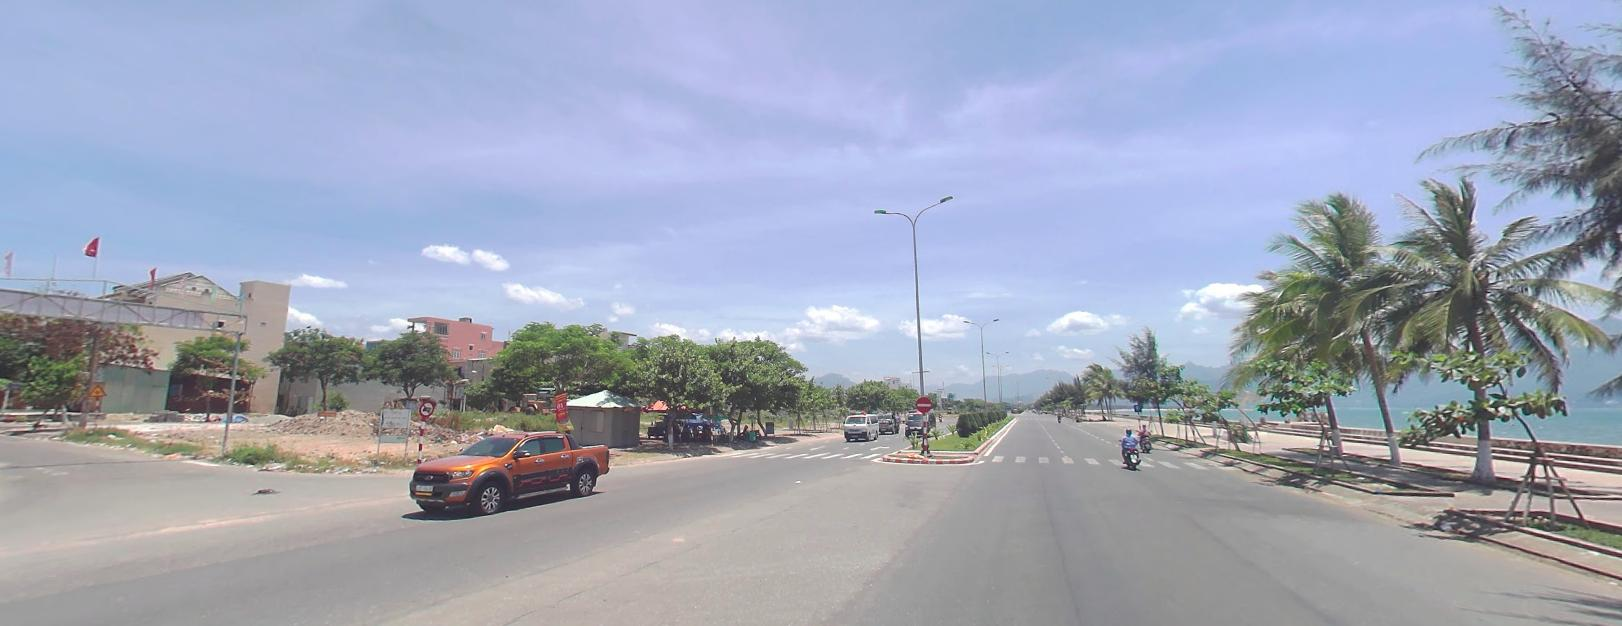Cam con lai: (419, 398, 434, 414)
Cam nguoc chieu: (915, 395, 932, 411), (915, 395, 931, 411)
